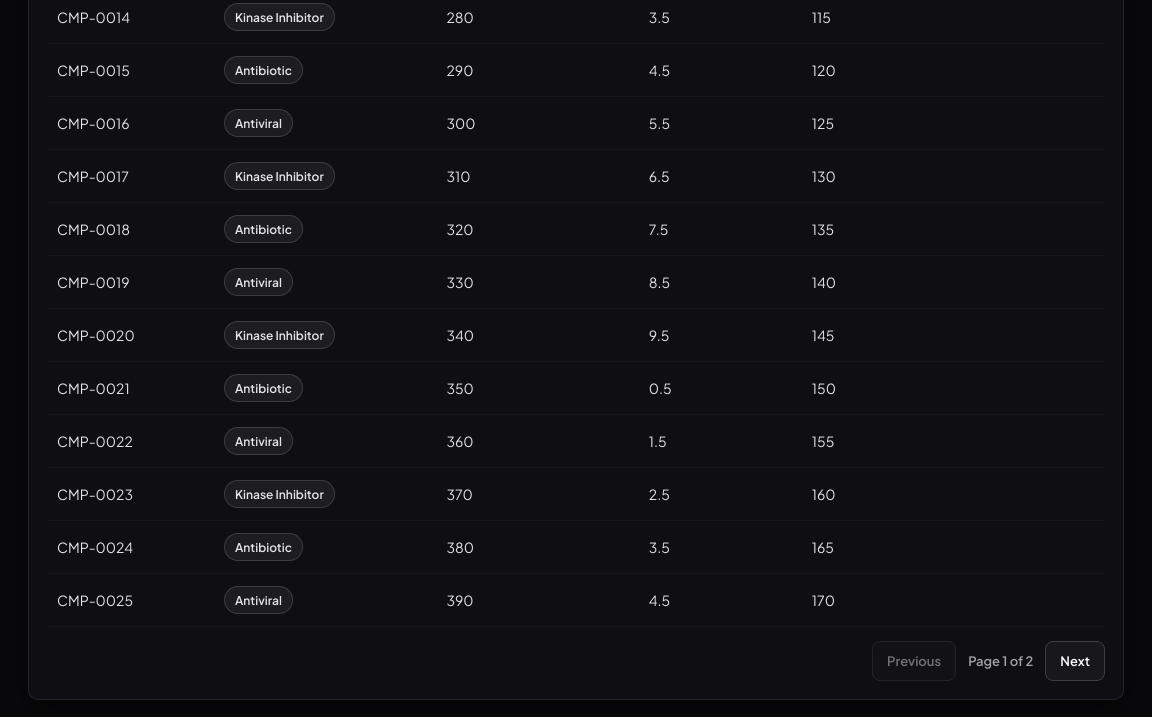
Test case: Dashboard › supports table sorting on columns and pagination at 25 rows per page
(page scrolled)
Expected: the text "CMP-0030" is not shown
# Navigate to page 2
Click the button "Next". click: [1075, 661]
box: [1045,641,1105,681]
(page scrolled)
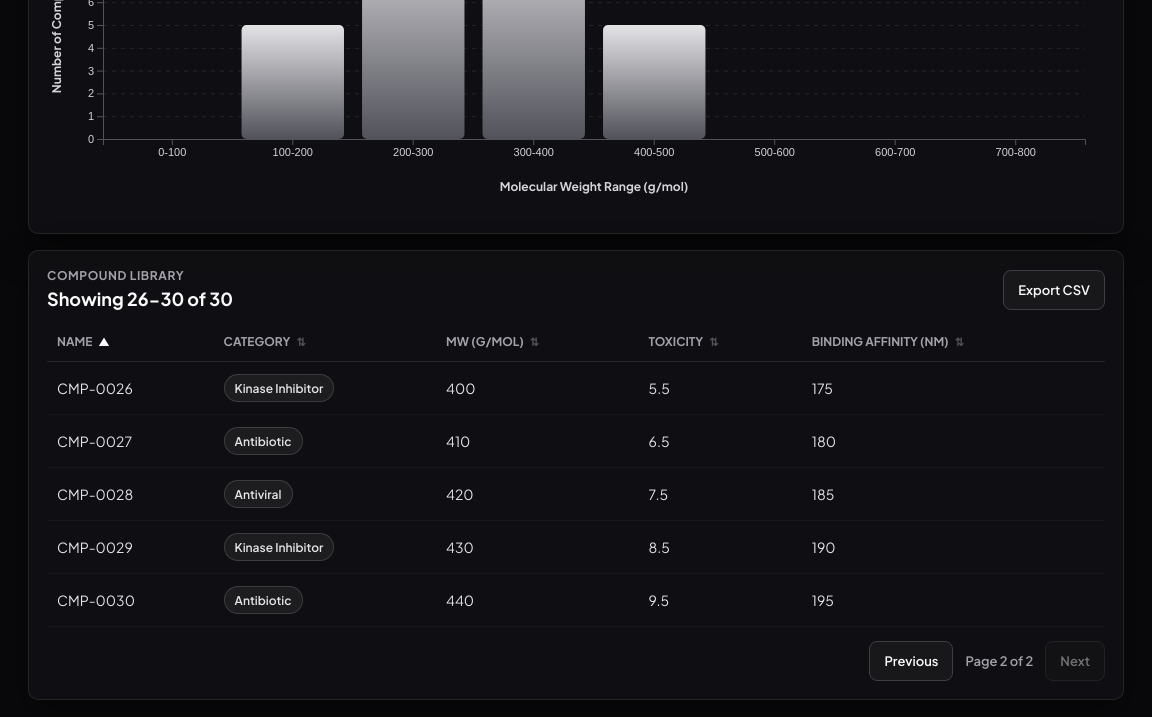
Result: the heading "Showing 26-30 of 30" is shown at [47,288,233,310]
Result: the text "CMP-0030" is shown at [47,574,214,626]
Click the button "MW (g/mol) ⇅". click: [493, 342]
box: [440,330,545,353]
(page scrolled)
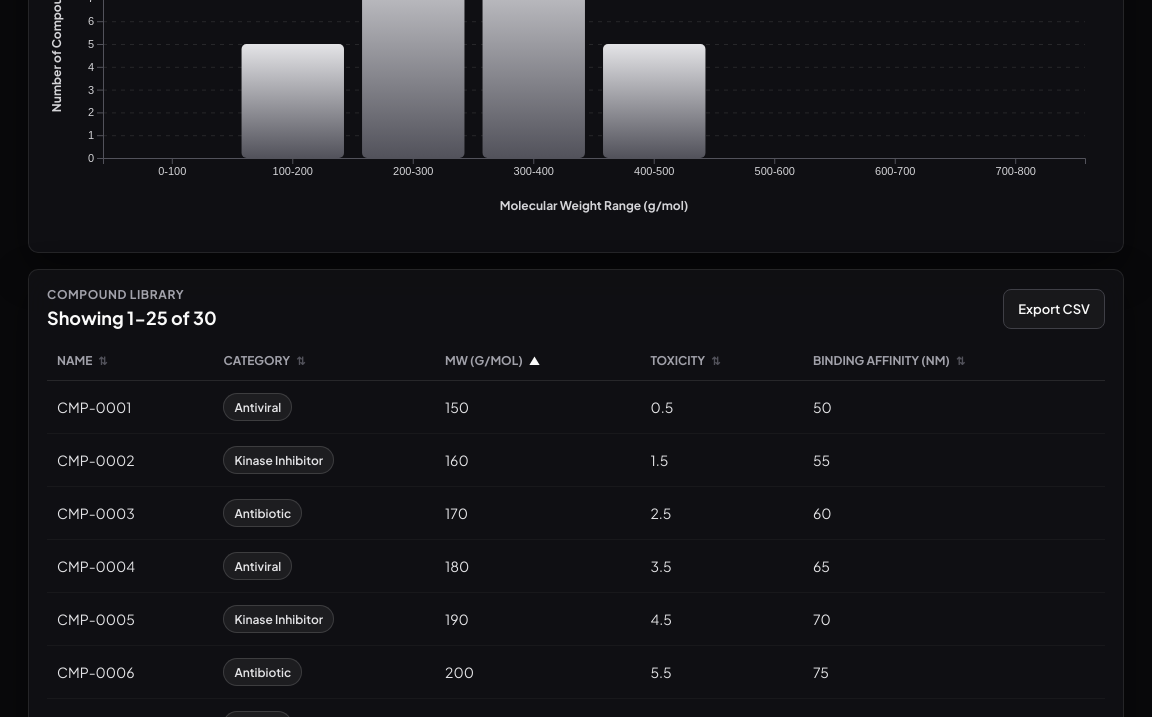
Click the button "MW (g/mol) ▲". click: [493, 360]
box: [439,349,546,372]
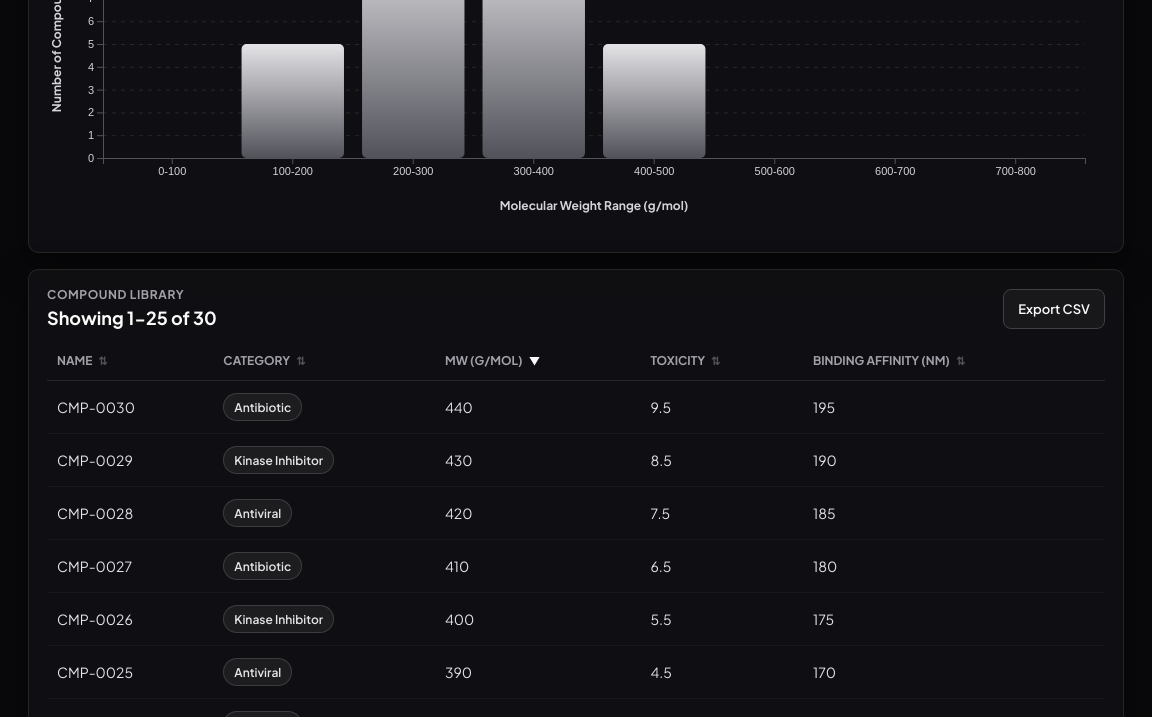
Result: the heading "Showing 1-25 of 30" is shown at [47,308,217,329]
Result: the text "CMP-0030" is shown at [47,380,213,434]
